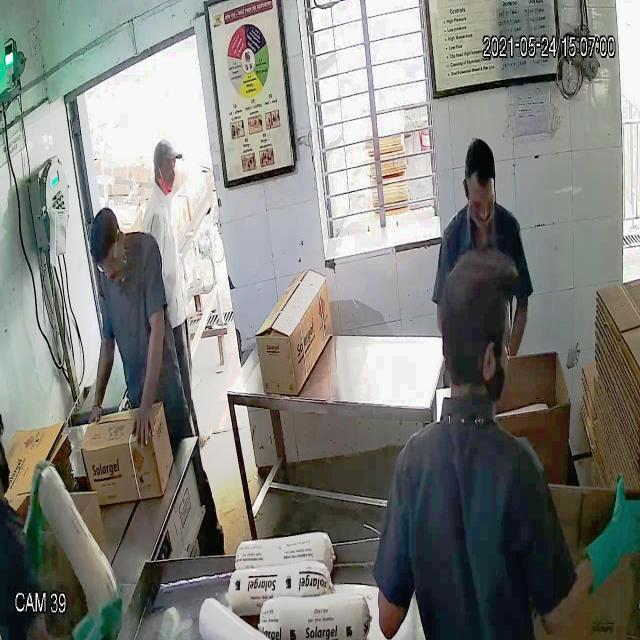glasses: (92, 241, 124, 283)
no-glass: (152, 155, 180, 181)
